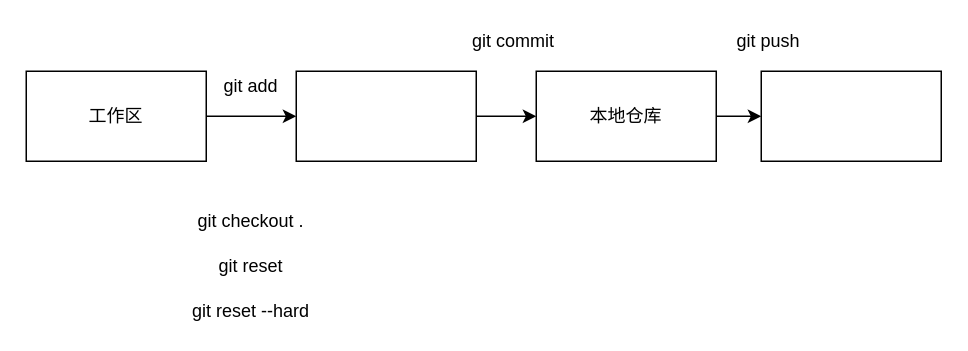
This 968x351 diagram has some shape labels left out. The centre of each missing label's shape, as x and y in pixels:
"暂存区" belongs at (385,115).
"远程仓库" belongs at (850,115).
